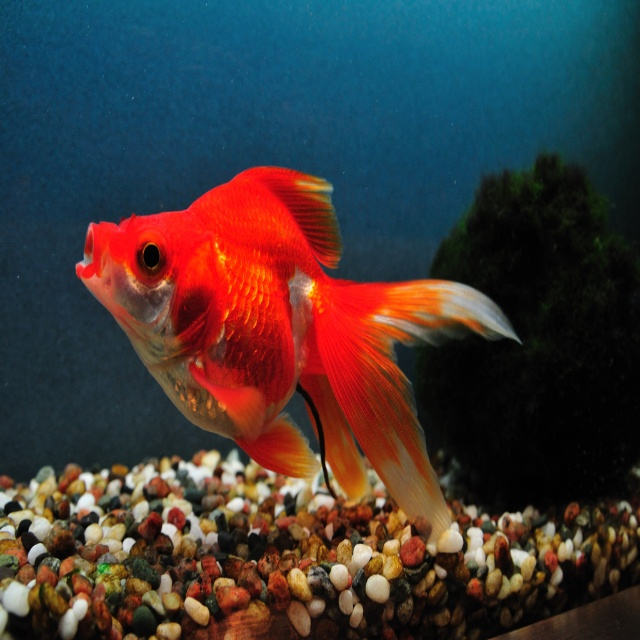Goldfish: (82, 153, 532, 541)
